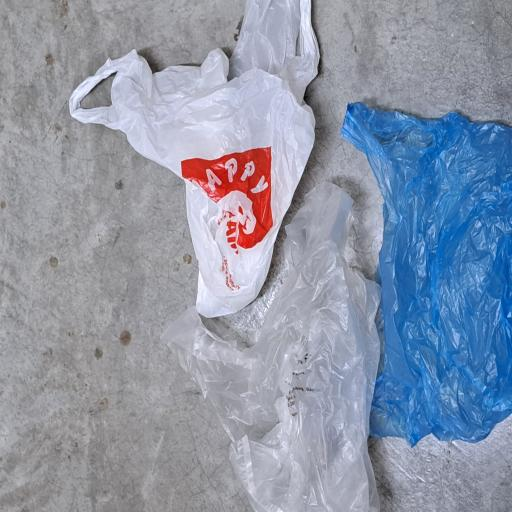plastic bag: (144, 95, 384, 427), (0, 222, 248, 507), (49, 459, 310, 512)
